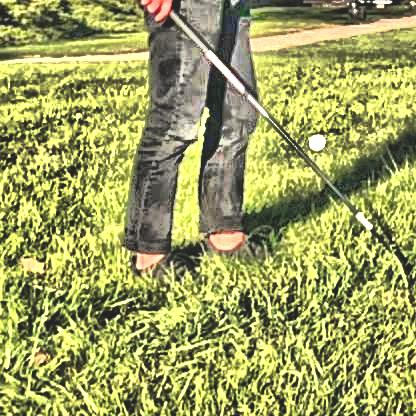golfball: (304, 129, 323, 150)
